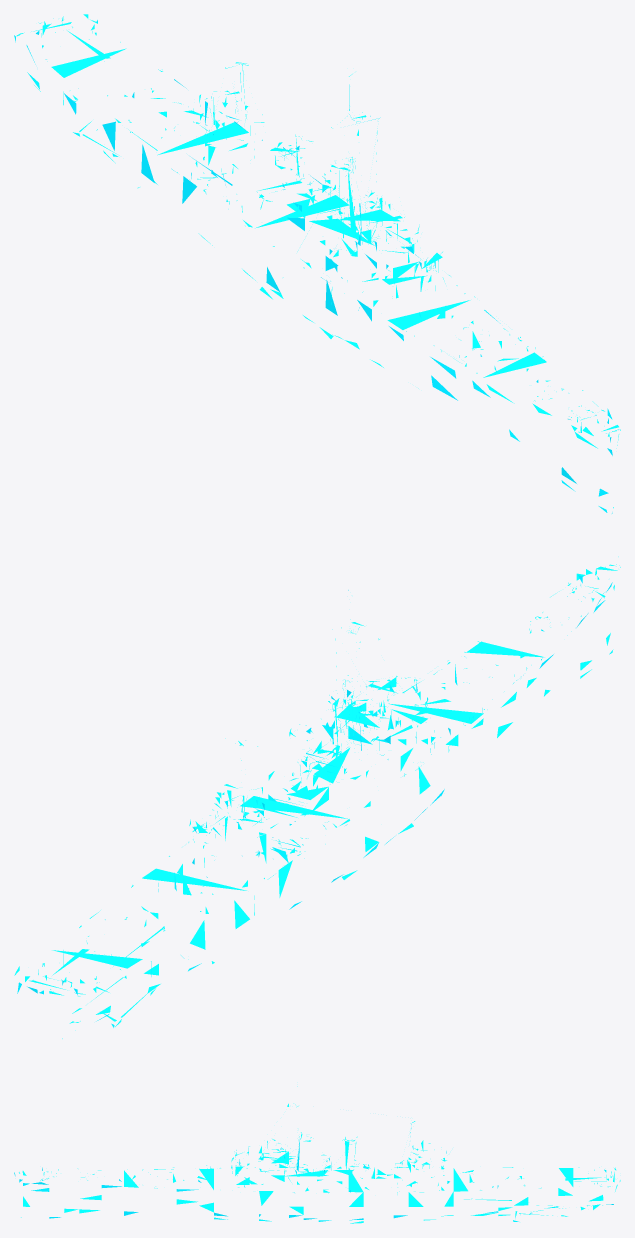
The model's file is Nueve_de_Julio.glb.
The picture shows the model from 3 angles, top to bottom: view 1: azimuth 30°, elevation 25°; view 2: azimuth 150°, elevation 25°; view 3: azimuth 270°, elevation 25°; orthographic projection. The views are drawn at different scales.
Bounding box in the file's own units: 1.35 × 3.02 × 12.36.
